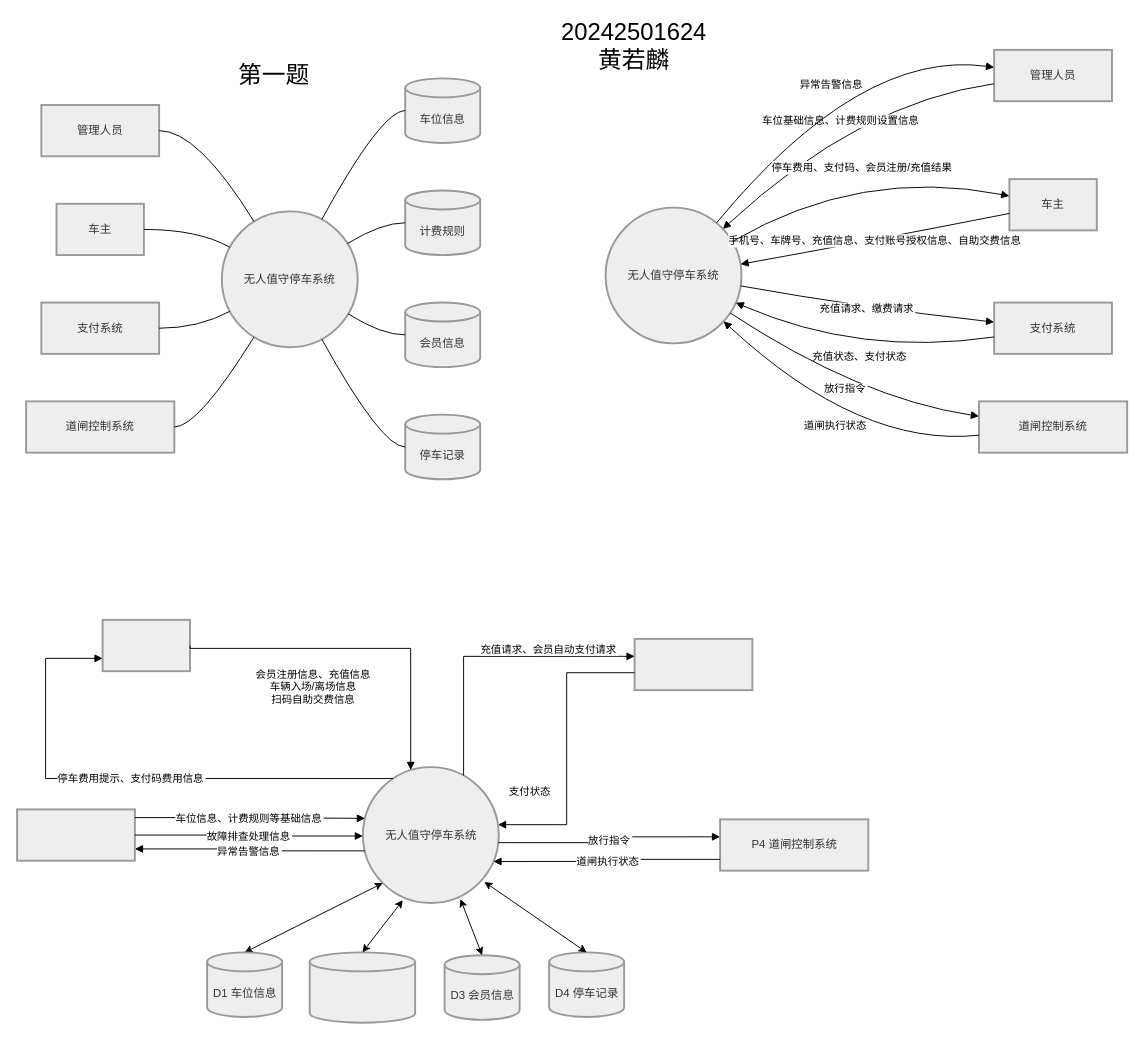
The diagram is 1145 pixels wide and 1039 high, and some of its shapes have lost their labels. The shapes that lost their labels are listed below. From the top down, each one's centre as x and y in pixels, then its label:
At point (145, 645): "P2 车主".
At point (693, 664): "P3 支付系统".
At point (75, 834): "P1 管理人员".
At point (362, 987): "D2 计费规则信息".
